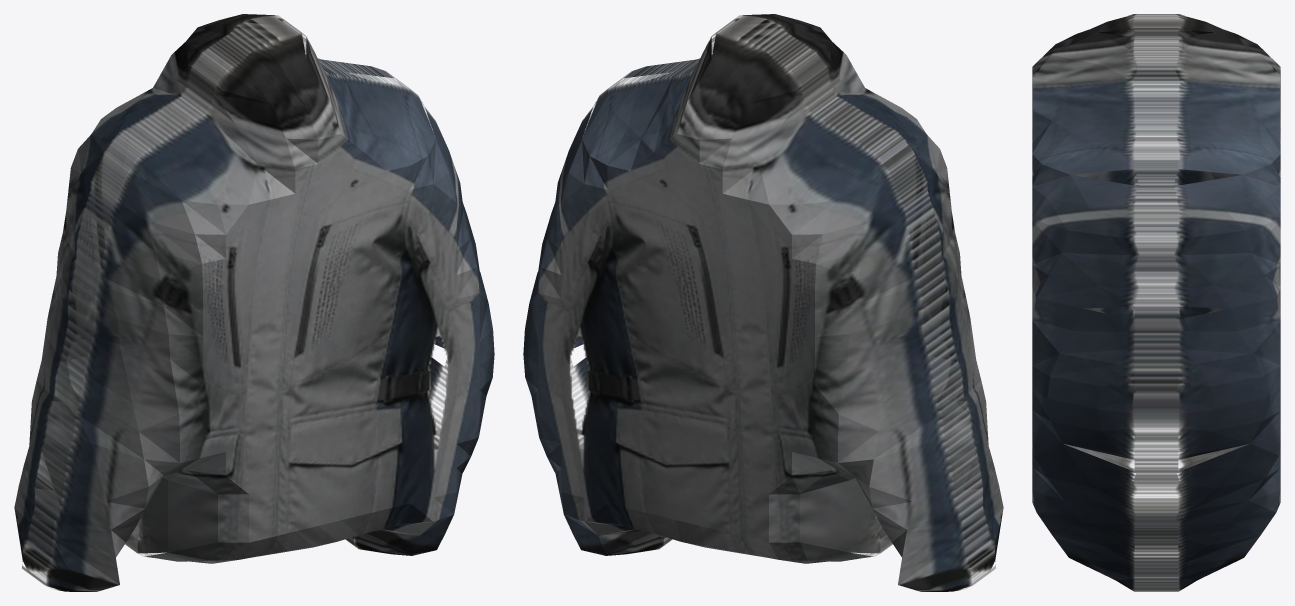
The model's file is forma-apex-adventure-jacket-025.glb.
3 renders of one model, left to right at view 1: azimuth 30°, elevation 25°; view 2: azimuth 150°, elevation 25°; view 3: azimuth 270°, elevation 25°, orthographic. The views are drawn at different scales.
Visible parts, largest first — view 1: world; view 2: world; view 3: world.
Part boxes in pixels (x1,y1,x2,y2): world: (14,14,494,591); world: (523,14,1003,591); world: (1032,14,1280,591).
Bounding box in the file's own units: 0.8328 × 1 × 0.44.
Materials: 1 (1 with a texture image).
